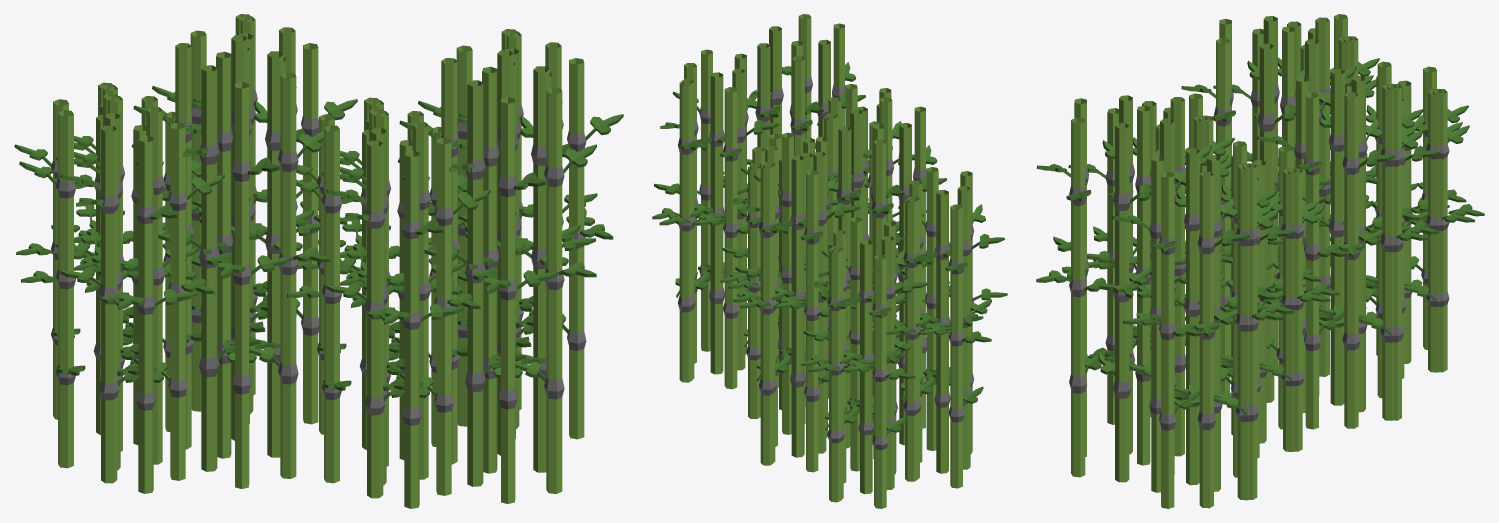
File: TT_Japanese_Bamboo.fbx
3 renders of one model, left to right at view 1: azimuth 30°, elevation 25°; view 2: azimuth 150°, elevation 25°; view 3: azimuth 270°, elevation 25°, orthographic. The views are drawn at different scales.
Parts seen in each view (by area): view 1: Bamboo_shoots; view 2: Bamboo_shoots; view 3: Bamboo_shoots.
Boxes of the visible parts, bbox=[...] form: Bamboo_shoots: bbox=[14, 14, 623, 508]; Bamboo_shoots: bbox=[652, 14, 1007, 508]; Bamboo_shoots: bbox=[1036, 14, 1484, 508].
Size of the model in its own units: 385 by 293 by 336.
